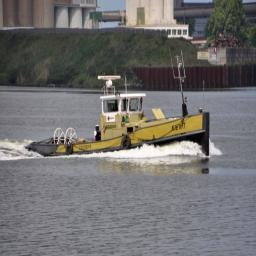tugboat: (25, 74, 218, 176)
